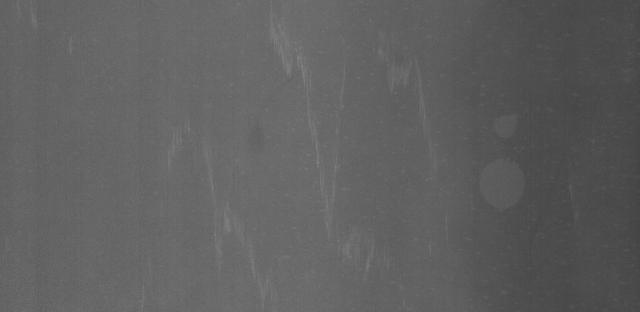oil_spot: (472, 152, 535, 225), (480, 98, 540, 147)
silk_spot: (262, 18, 378, 272), (187, 188, 290, 301), (370, 35, 450, 149), (158, 108, 248, 202)
